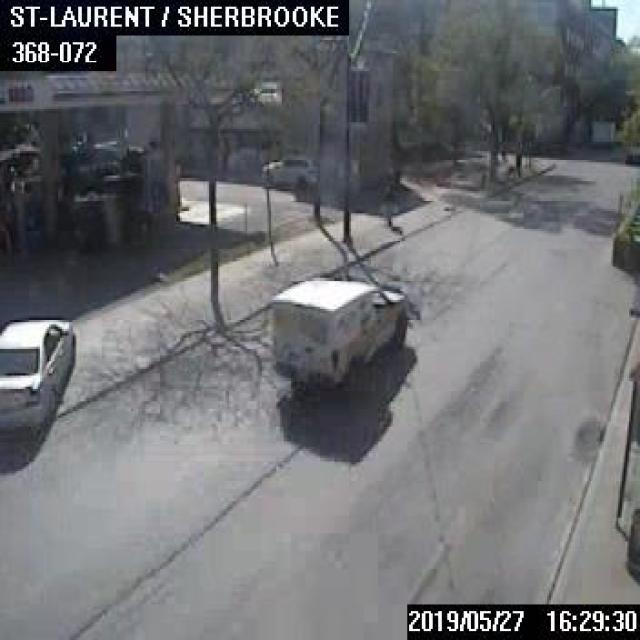pedestrian: (513, 144, 521, 178)
vehicle: (269, 276, 406, 391), (0, 313, 76, 428), (260, 153, 318, 190), (622, 142, 638, 164)
